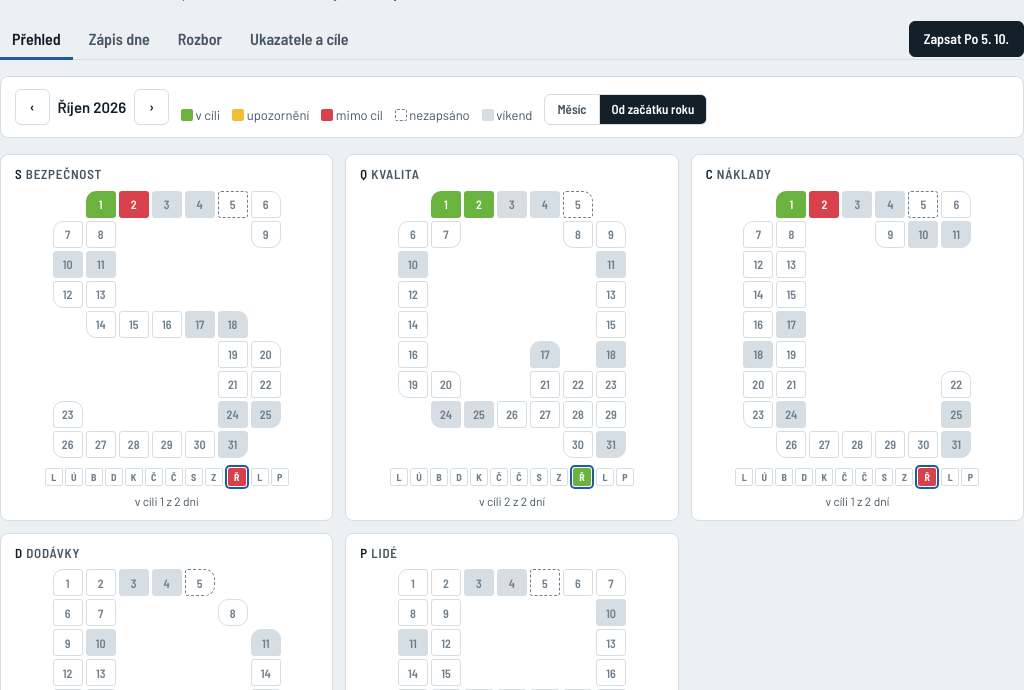
KpiPage › pod S a Q Pareto kategorií za období, pod C, D, P denní sloupce ukazatele
The width and height of the screenshot is (1024, 690).
Click the button "Měsíc": point(572, 110) left=546, top=95, right=599, bottom=124
(page scrolled)
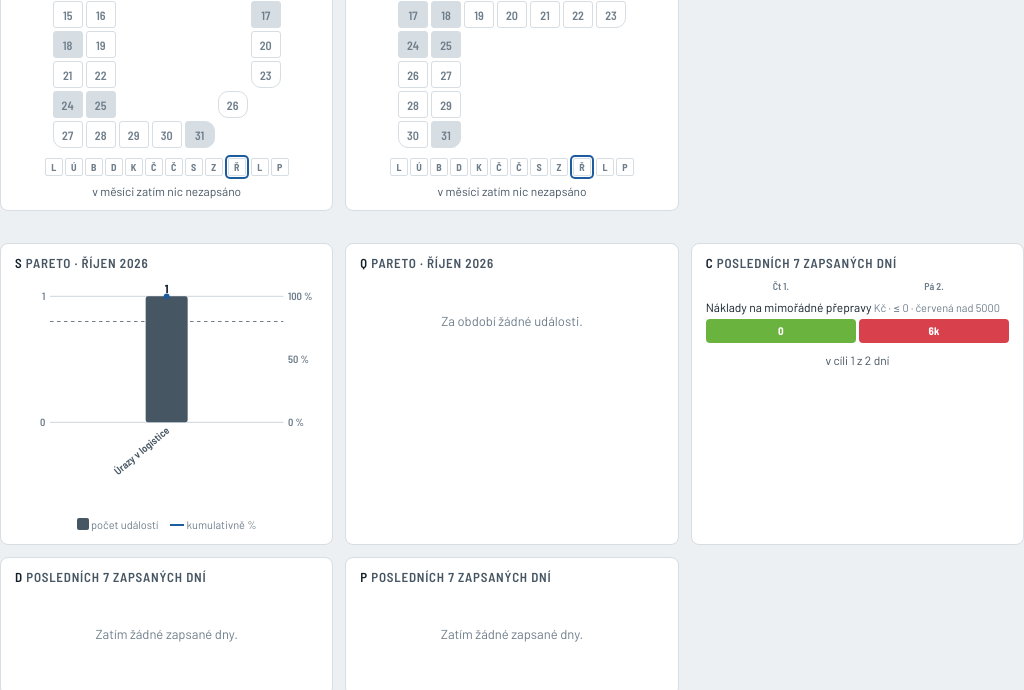
Check: the element with class "kpi-chart-card" shows "Zatím žádné zapsané dny.", box left=96, top=626, right=238, bottom=642
Check: the heading "S Pareto · Říjen 2026" is shown, box left=15, top=255, right=148, bottom=271
Click the button with class "kpi-days-cell" showing "6k": point(934, 331) left=859, top=319, right=1009, bottom=343
(page scrolled)
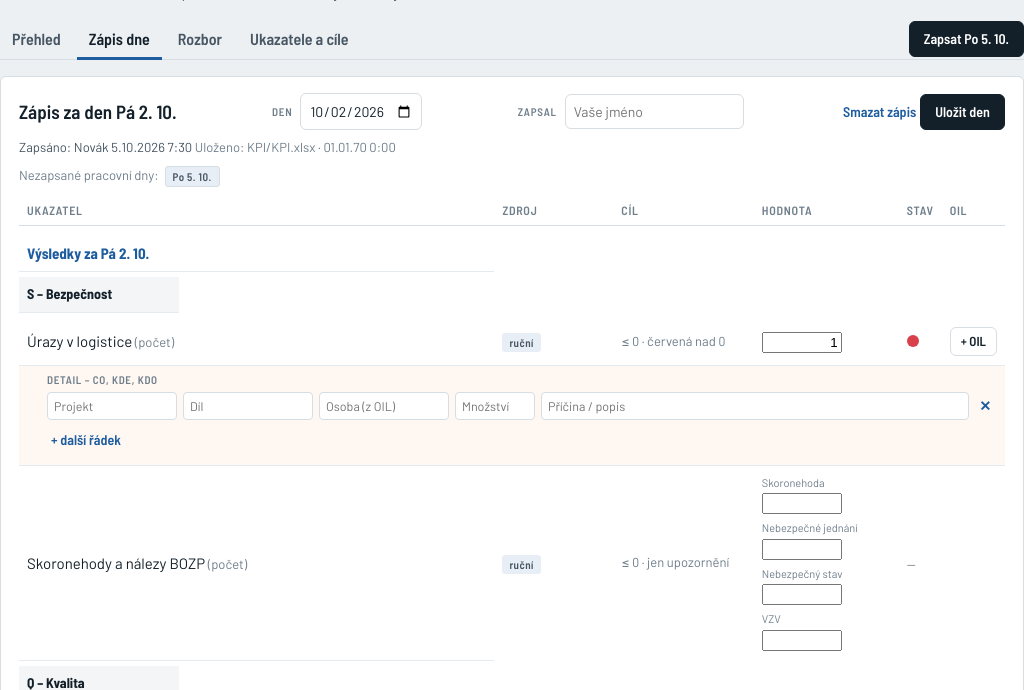
Check: the heading "Zápis za den Pá 2. 10." is shown, box left=19, top=100, right=177, bottom=124
